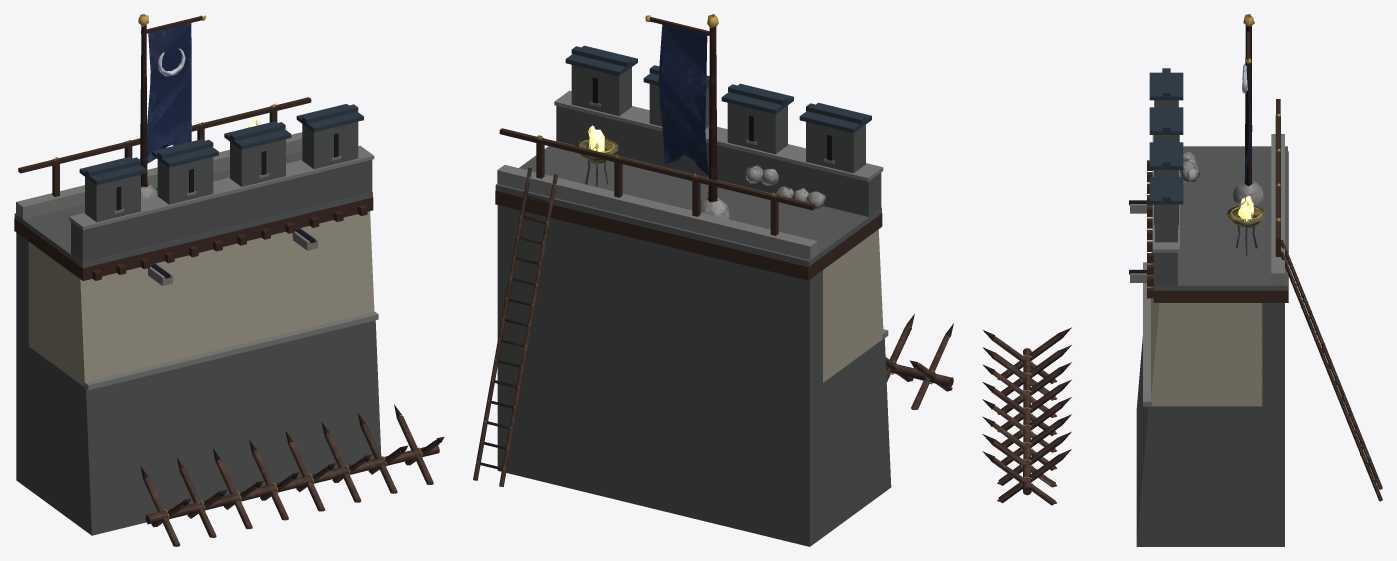
Rendered from fort_wall_segment.gltf.
The picture shows the model from 3 angles, left to right: view 1: azimuth 30°, elevation 25°; view 2: azimuth 150°, elevation 25°; view 3: azimuth 270°, elevation 25°; orthographic projection. The views are drawn at different scales.
Visible parts, largest first — view 1: Far, Near; view 2: Far, Near; view 3: Far, Near.
Boxes of the visible parts, x1,y1,x2,y2 form: Far: (14,14,439,546); Near: (54,15,444,546); Far: (473,14,953,546); Near: (473,15,953,486); Far: (993,14,1382,546); Near: (982,15,1382,505).
Size of the model in its own units: 7.24 by 10.76 by 8.78.
19 materials, 11 textured.
